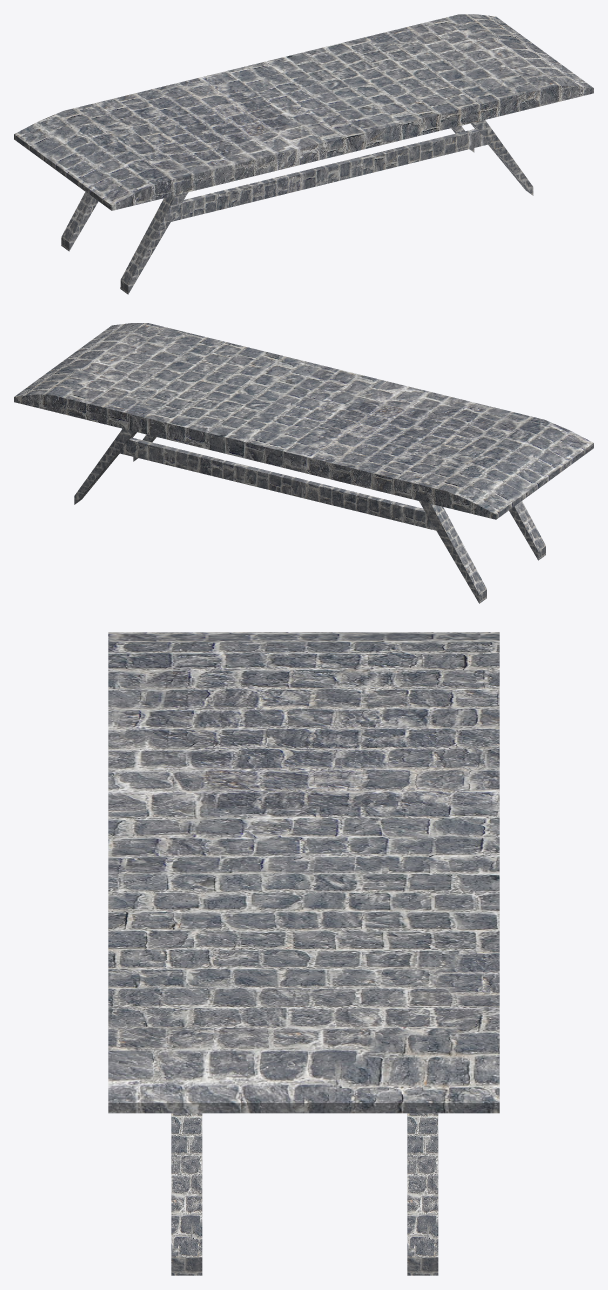
File: bridge.fbx
3 views of the same model, one above another, from view 1: azimuth 30°, elevation 25°; view 2: azimuth 150°, elevation 25°; view 3: azimuth 270°, elevation 25° (orthographic). The views are drawn at different scales.
Visible parts, largest first — view 1: pCube1, pCube7, pCube2, pCube5, pCube3; view 2: pCube1, pCube6, pCube3, pCube4, pCube2; view 3: pCube1, pCube4, pCube5.
Part boxes in pixels (box(x1,y1,x2,y2)): pCube1: box(14, 14, 593, 210); pCube7: box(171, 128, 489, 221); pCube2: box(120, 192, 187, 294); pCube5: box(471, 120, 533, 195); pCube3: box(61, 192, 98, 251); pCube1: box(14, 323, 593, 519); pCube6: box(118, 437, 435, 530); pCube3: box(419, 501, 486, 603); pCube4: box(74, 428, 136, 504); pCube2: box(509, 501, 545, 560); pCube1: box(108, 632, 499, 1113); pCube4: box(407, 1113, 438, 1275); pCube5: box(171, 1113, 202, 1275).
Bounding box in the file's own units: 15.64 × 3.71 × 5.5.
Materials: 2 (2 with a texture image).
